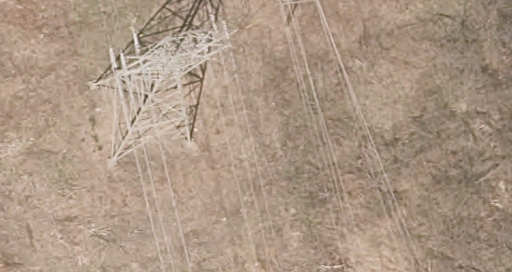TT: (91, 21, 235, 164)
